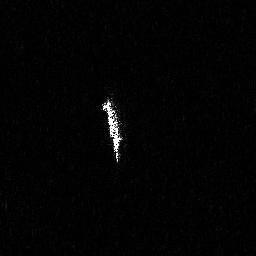ship: (99, 91, 131, 165)
